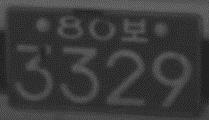0: (88, 16, 116, 40)
2: (105, 48, 147, 108)
3: (58, 45, 99, 105), (15, 43, 54, 100)
8: (57, 13, 84, 40)
9: (151, 49, 193, 108)
보: (121, 17, 148, 43)
